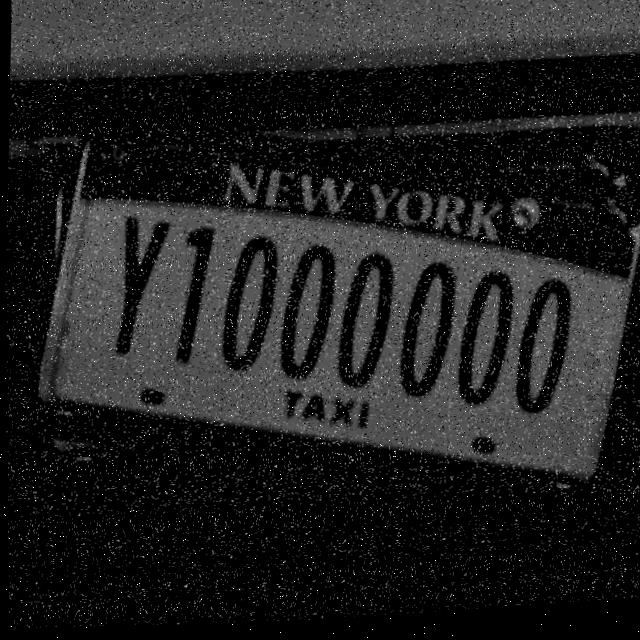LicensePlate: (25, 100, 640, 534)
